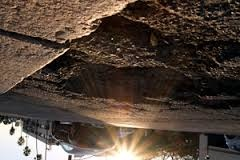pothole: (28, 71, 240, 118), (70, 36, 240, 72), (90, 0, 239, 38)
